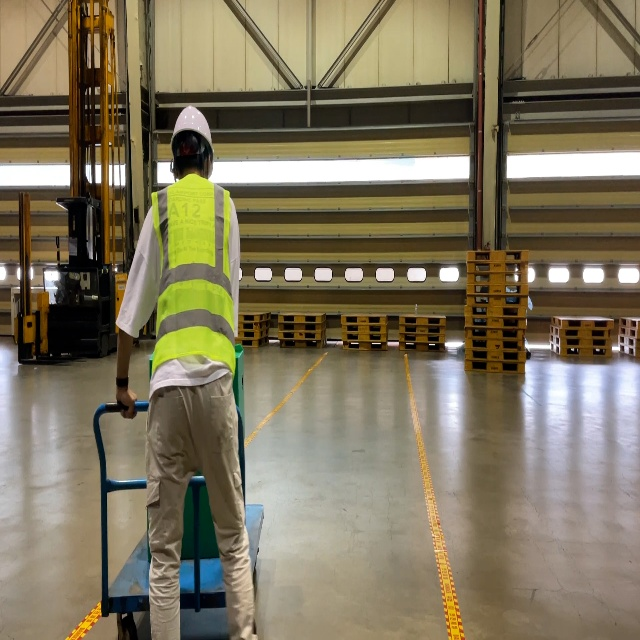Worker: (116, 106, 255, 640)
